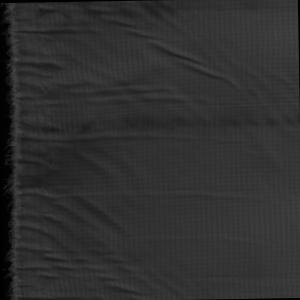Damage: (3, 3, 27, 300)
Wrinkle: (25, 1, 257, 300)
